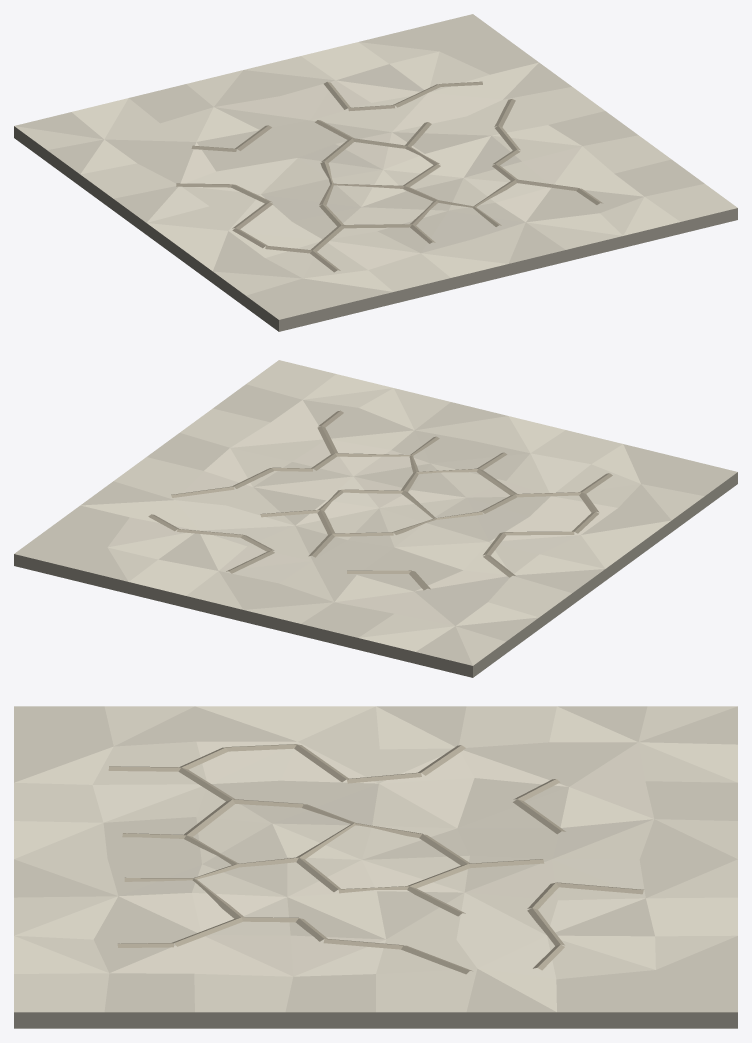
Rendered from ground_salt_flat_a.obj.
The picture shows the model from 3 angles, top to bottom: view 1: azimuth 30°, elevation 25°; view 2: azimuth 150°, elevation 25°; view 3: azimuth 270°, elevation 25°; orthographic projection. The views are drawn at different scales.
Size of the model in its own units: 4 by 0.112 by 4.
